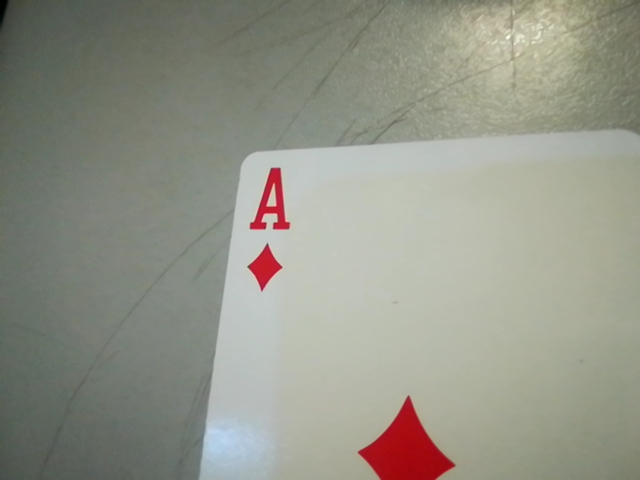fk a: (237, 161, 303, 294)
